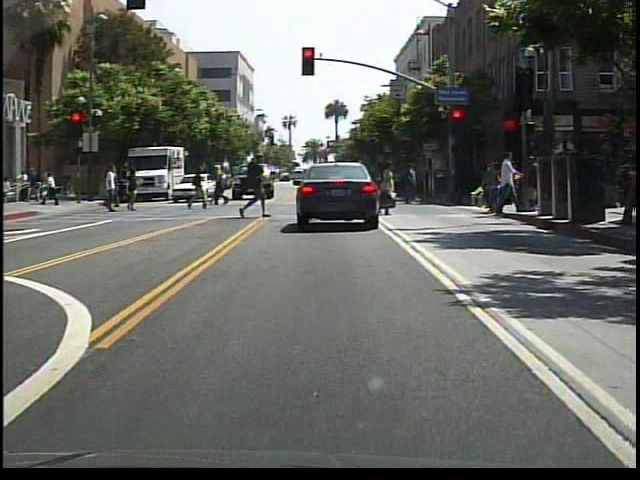person: (240, 150, 273, 224), (491, 148, 524, 211), (103, 165, 126, 217), (380, 162, 400, 217), (99, 166, 121, 213), (190, 168, 210, 215), (213, 166, 231, 208), (125, 169, 140, 214)
